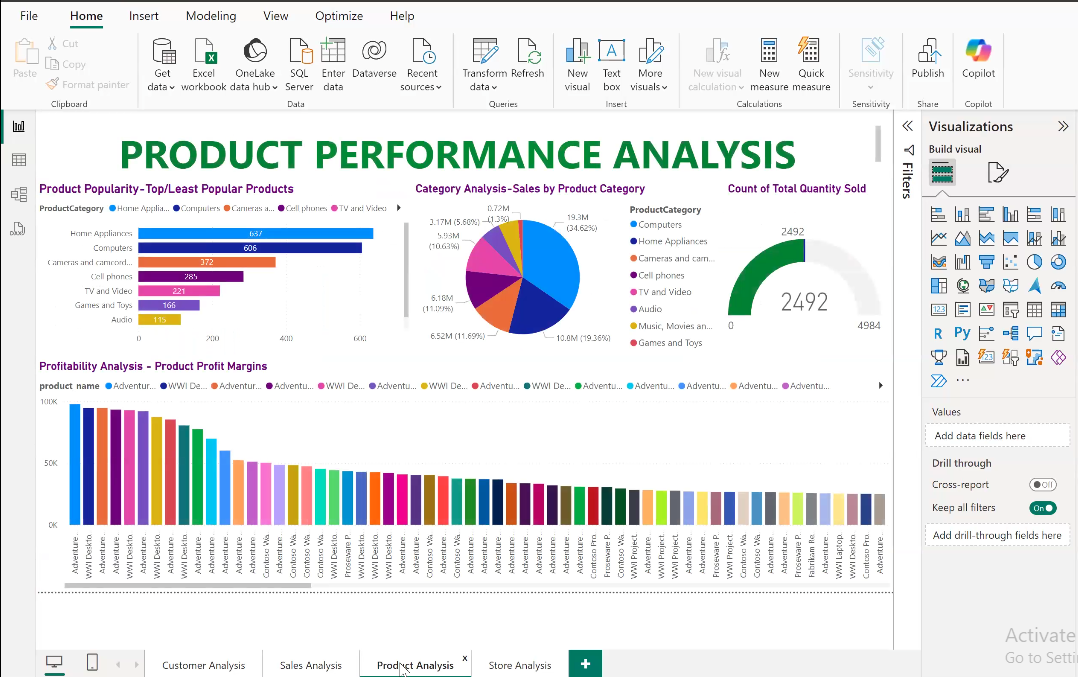

What the dashboard file says about the page in this screenshot:
{"tool":"powerbi","page":{"name":"Product Analysis","canvas":[1280,720],"ordinal":2},"visuals":[{"type":"textbox","box":[10.3,0,1269.6,129.3],"z":0},{"type":"textbox","box":[0,108.7,376.2,39.7],"z":1000},{"type":"textbox","box":[436.4,108.7,376.2,32.3],"z":2000},{"type":"textbox","box":[894.9,105.8,242.4,38.2],"z":3000},{"type":"barChart","fields":{"Category":["customer_sale_eda product_details.Product_Name"]},"box":[0,186.6,376.2,149.9],"z":4000},{"type":"pieChart","fields":{"Category":["customer_sale_eda product_details.Category"],"Y":["Sum(customer_sale_eda sales_details.Order_Number)"]},"box":[436.4,186.6,376.2,149.9],"z":5000},{"type":"gauge","fields":{"Y":["Sum(customer_sale_eda sales_details.Quantity)"]},"box":[828.7,186.6,376.2,149.9],"z":6000},{"type":"textbox","box":[0,402.6,376.2,33.8],"z":7000},{"type":"lineStackedColumnComboChart","fields":{"Category":["customer_sale_eda product_details.Product_Name"]},"box":[10.3,467.3,376.2,149.9],"z":8000}]}

Visuals, with their boxes on the page's 1280x720 design canvas (x1, y1, x2, y2). These are canvas units, not pixel positions in the 1078x677 screenshot, which may show the page scaled, cropped or inside an application window:
textbox: 10 0 1280 129
textbox: 0 109 376 148
textbox: 436 109 813 141
textbox: 895 106 1137 144
barChart - customer_sale_eda product_details.Product_Name: 0 187 376 336
pieChart - customer_sale_eda product_details.Category x Sum(customer_sale_eda sales_details.Order_Number): 436 187 813 336
gauge - Sum(customer_sale_eda sales_details.Quantity): 829 187 1205 336
textbox: 0 403 376 436
lineStackedColumnComboChart - customer_sale_eda product_details.Product_Name: 10 467 386 617
